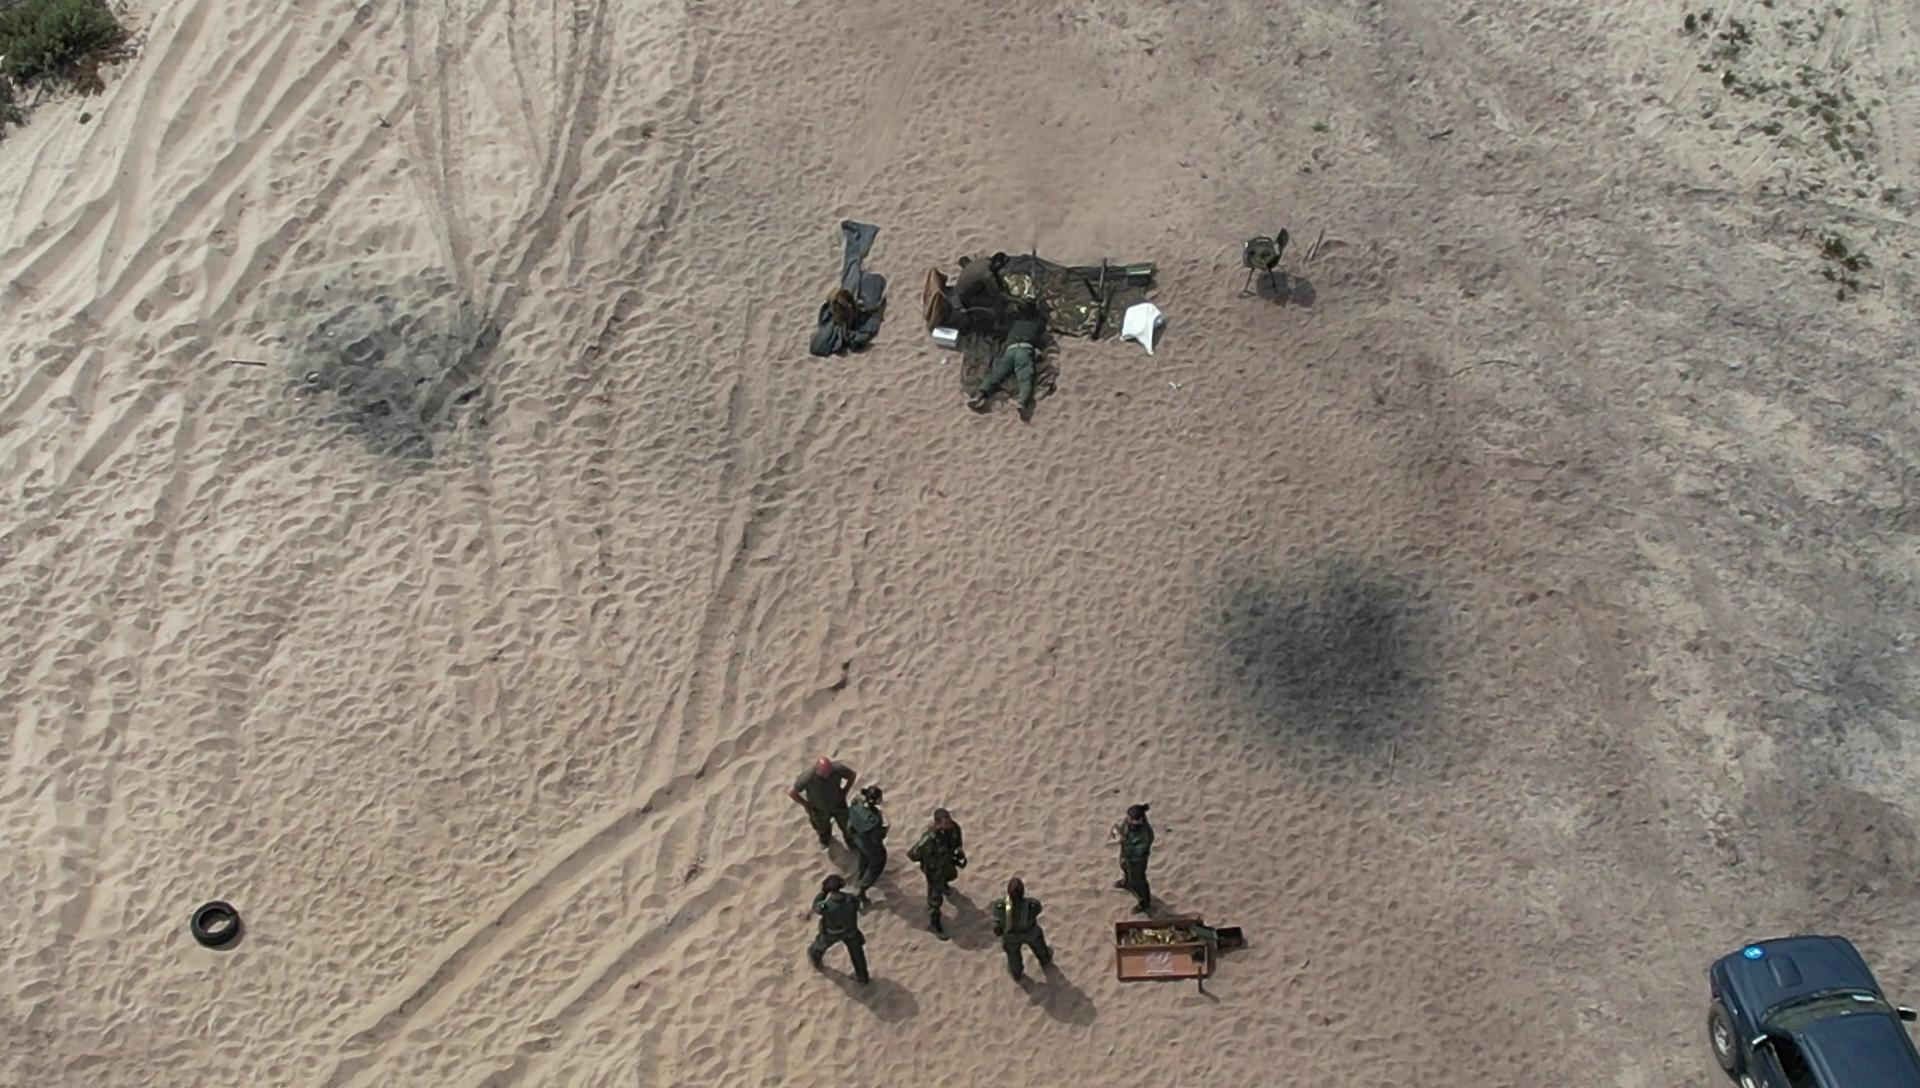Soldier: (971, 280, 1055, 419), (795, 748, 884, 873), (1100, 797, 1178, 927), (982, 873, 1065, 990), (812, 852, 886, 980), (906, 799, 980, 910), (913, 807, 971, 931), (948, 249, 1018, 330)
